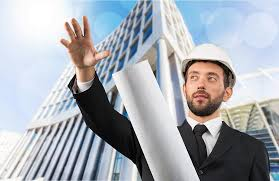hand: (60, 15, 111, 68)
